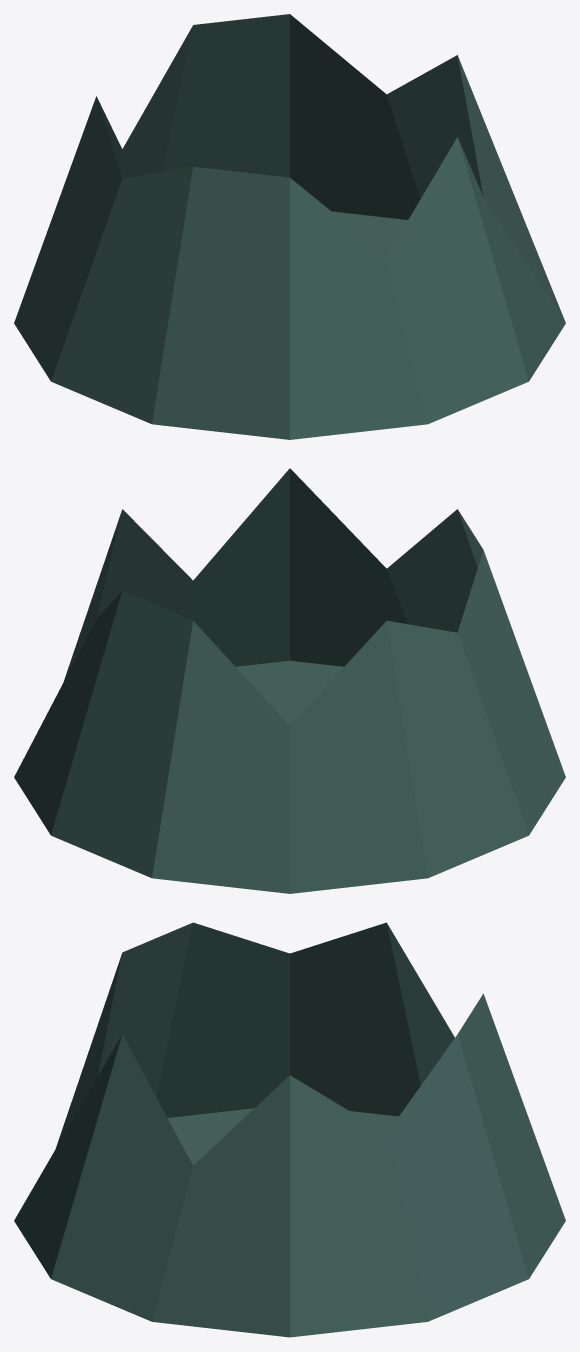
File: Flash 3 style.fbx
3 renders of one model, top to bottom at view 1: azimuth 30°, elevation 25°; view 2: azimuth 150°, elevation 25°; view 3: azimuth 270°, elevation 25°, orthographic.
Parts seen in each view (by area): view 1: polySurface12; view 2: polySurface12; view 3: polySurface12.
Boxes of the visible parts, <box> form: polySurface12: <box>14,14,565,439</box>; polySurface12: <box>14,468,565,893</box>; polySurface12: <box>14,922,565,1337</box>.
Size of the model in its own units: 0.3738 by 0.17 by 0.3738.
